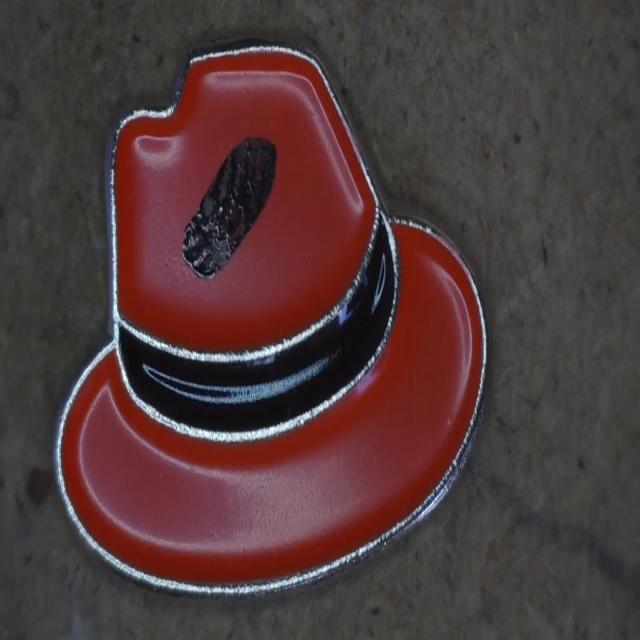Hatband: (119, 213, 399, 440)
Paint_Leak: (182, 138, 276, 278)
RedHatPin: (56, 44, 486, 593)
